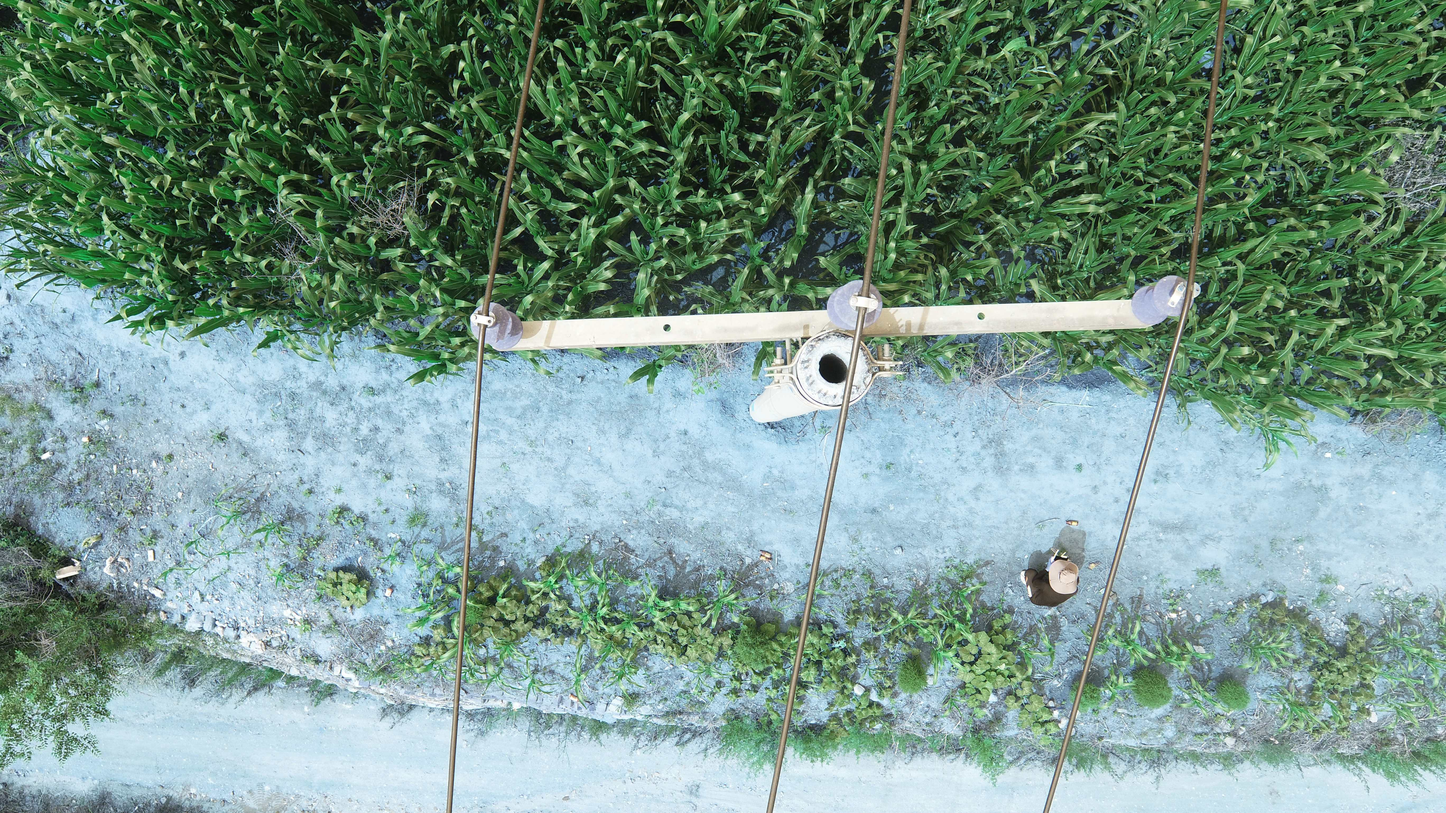severe_soiling_no_discharge_whole: (1131, 272, 1202, 327), (824, 279, 884, 331), (469, 300, 524, 353)
